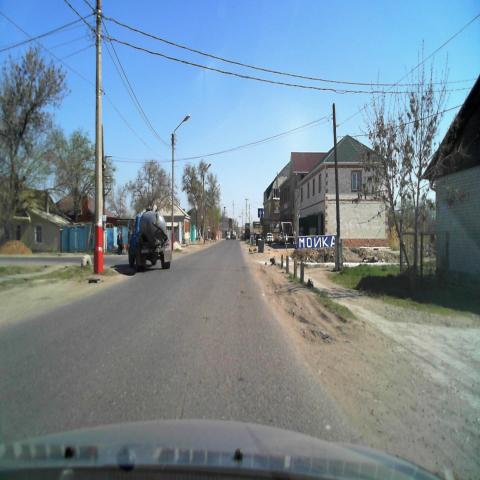5_5: (258, 207, 263, 218)
